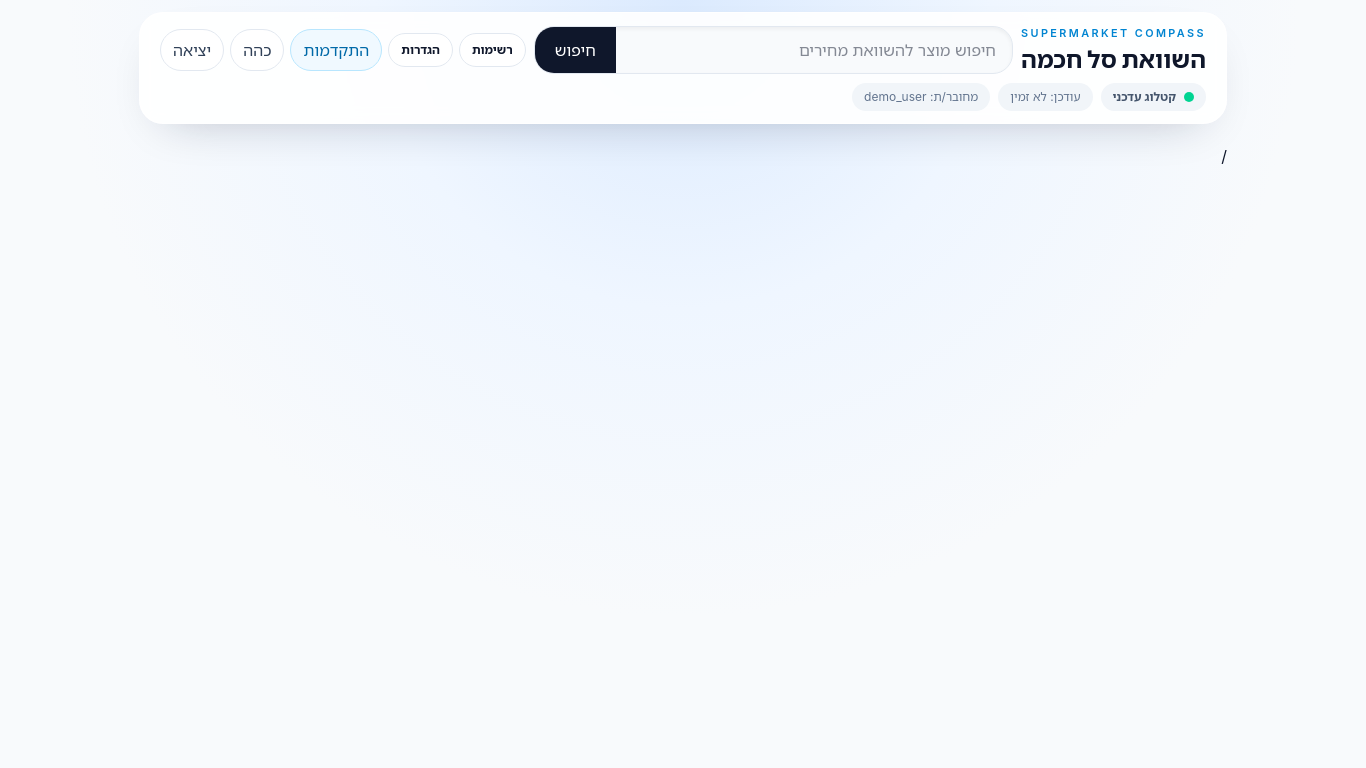
AppShell › closes the progress popup with Escape
This screenshot has width=1366, height=768.
Click the button named "הצג התקדמות" at (336, 50), box [290, 29, 382, 71]
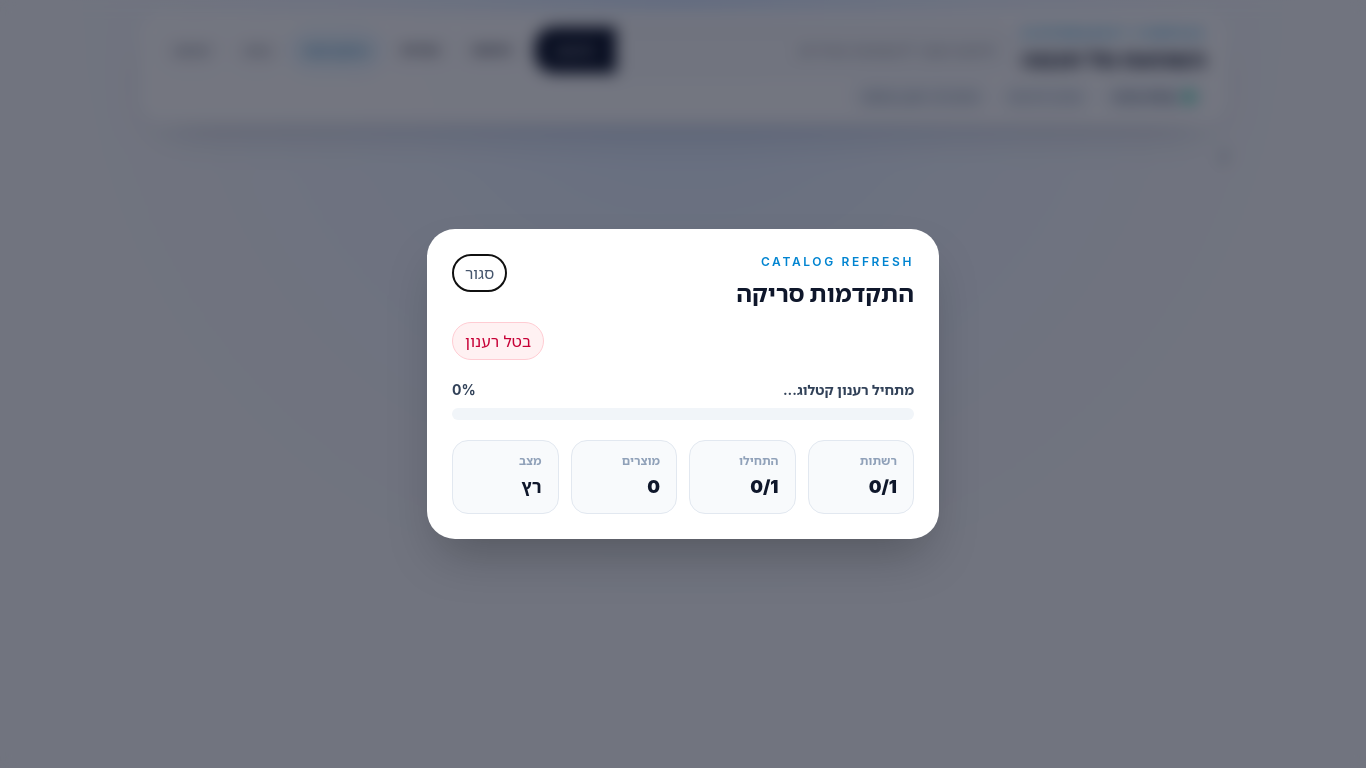
Check: the dialog "התקדמות סריקה" is shown, box [427, 229, 939, 539]
Press Escape
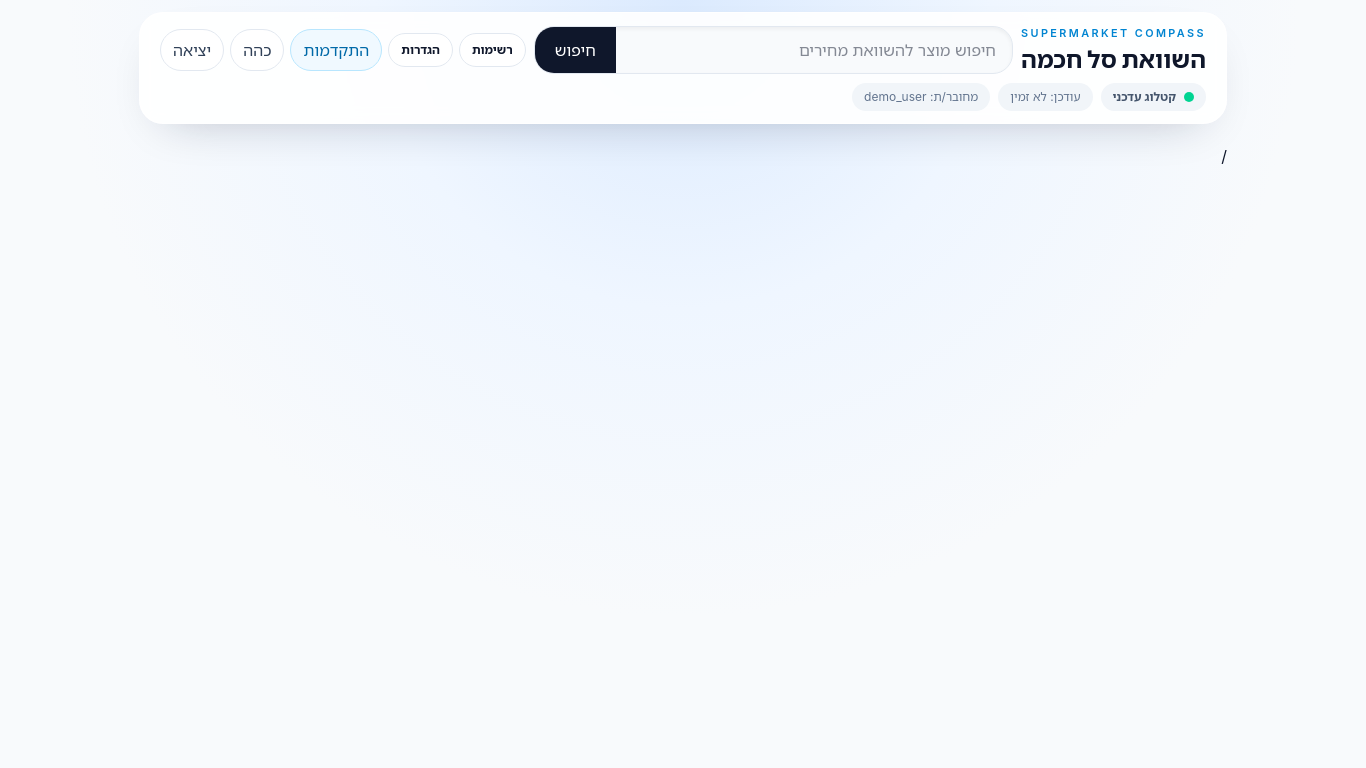
Check: the heading "התקדמות סריקה" is gone
